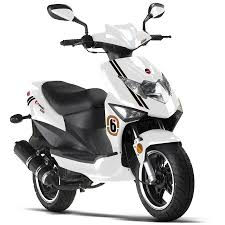motorcycle: (6, 2, 199, 221)
